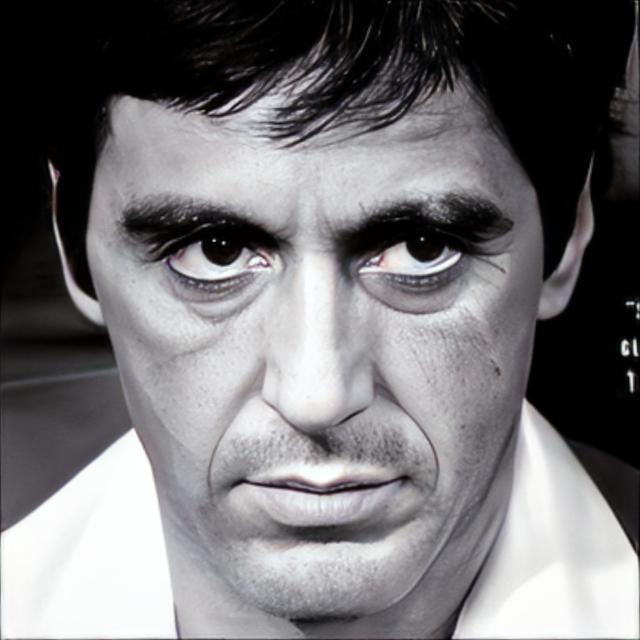anger: (104, 68, 536, 630)
